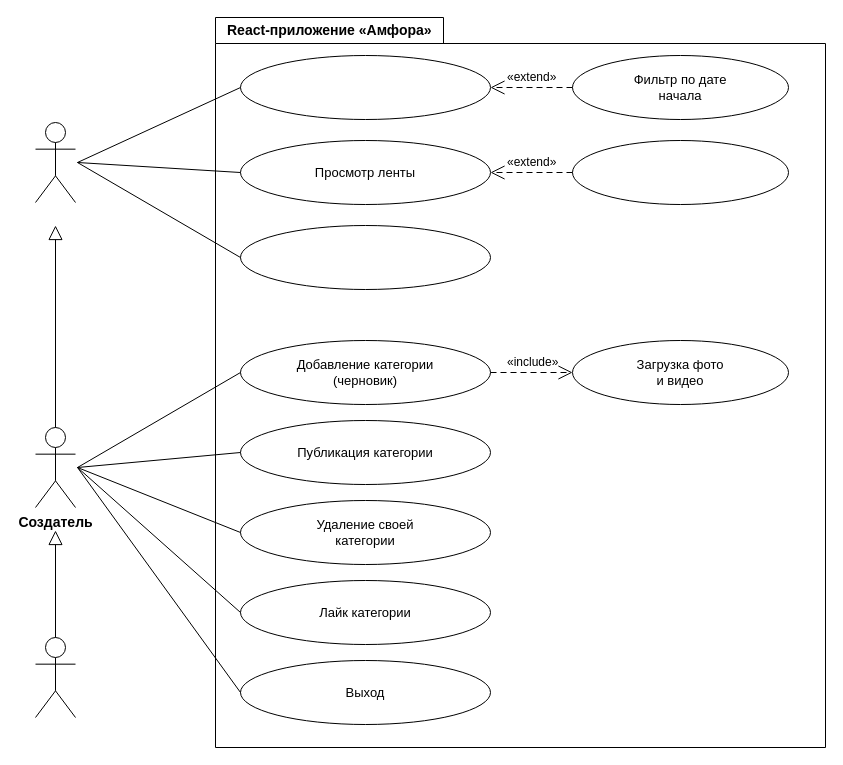
Some shapes in this 843 by 765 pixel diagram are drawn without their labels. The centre of each missing label's shape, as x and y in pixels:
"Вход и регистрация" goes at point 365,257.
"Гость" goes at point 55,162.
"Модератор" goes at point 55,677.
"Переход к следующей категории" goes at point 680,172.
"Просмотр плитки категорий" goes at point 365,87.
